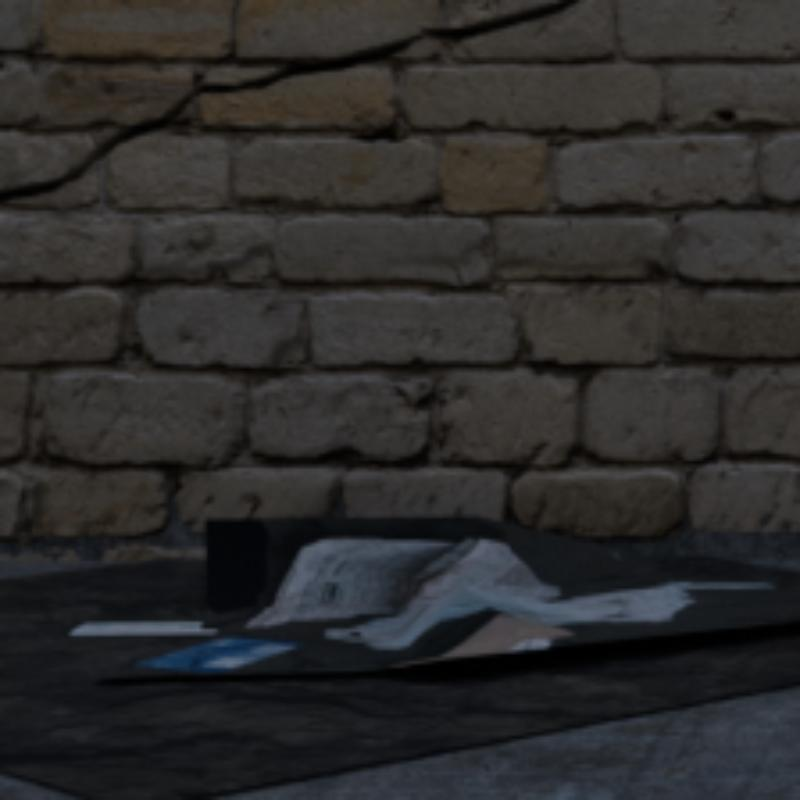crack: (0, 0, 575, 200)
